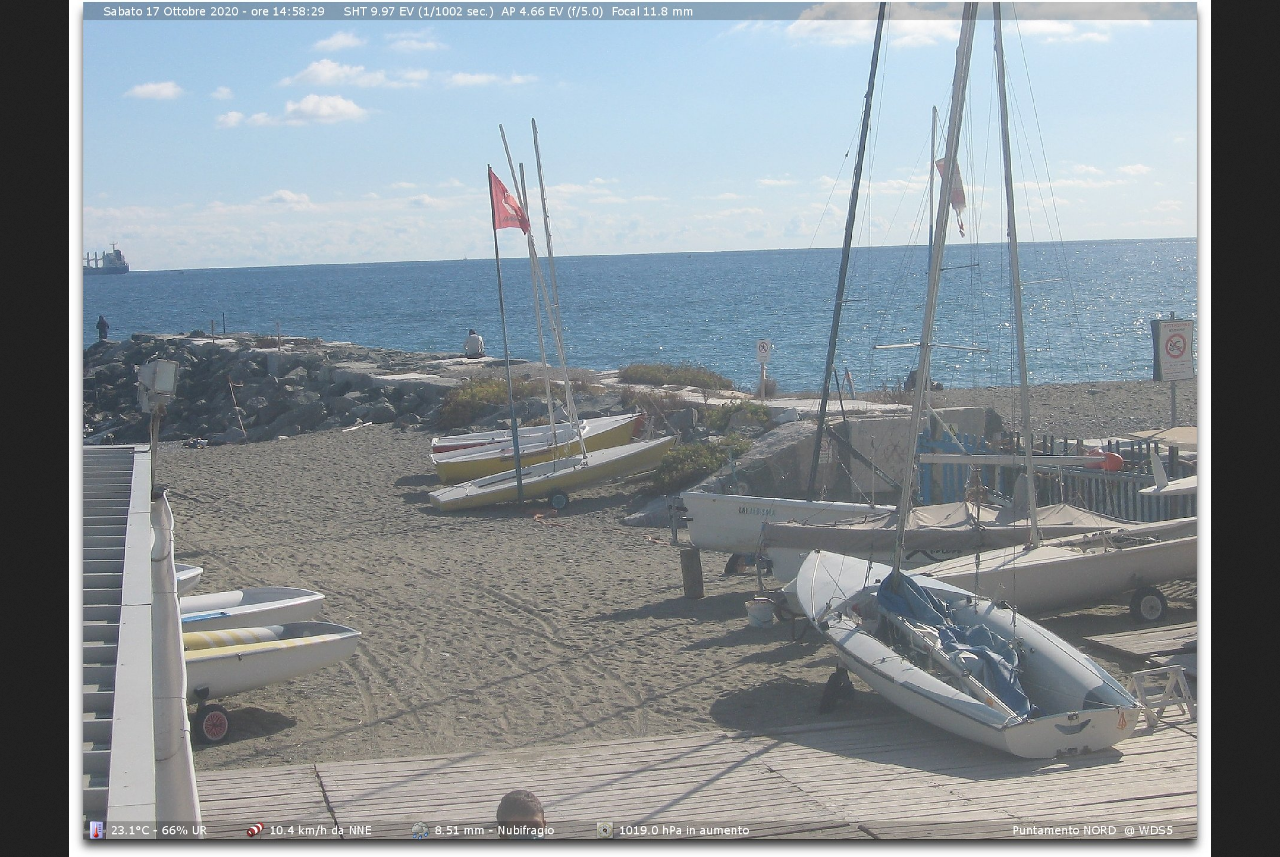maybe: (488, 170, 530, 234)
